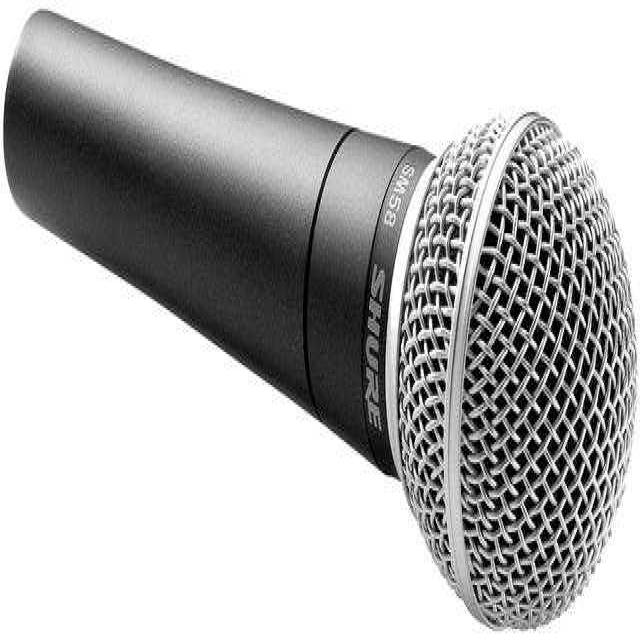microphone: (8, 7, 636, 633)
